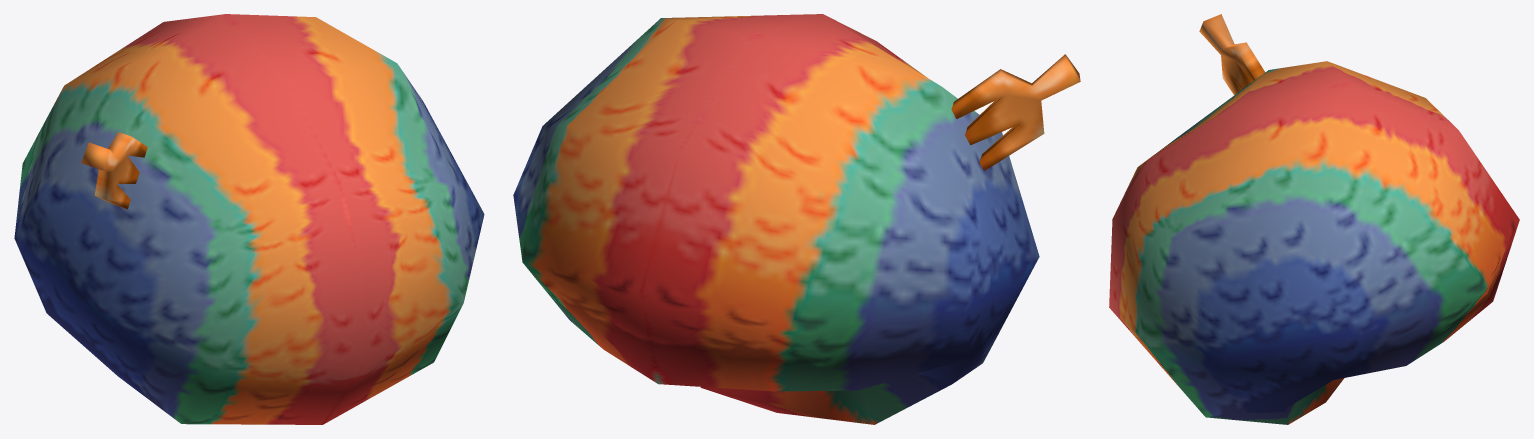
Rendered from sfx_weapon_mura_A0004.glb.
3 views of the same model, side by side, from view 1: azimuth 30°, elevation 25°; view 2: azimuth 150°, elevation 25°; view 3: azimuth 270°, elevation 25° (orthographic). The views are drawn at different scales.
Parts seen in each view (by area): view 1: sfx_weapon_mura_A0004_obj0; view 2: sfx_weapon_mura_A0004_obj0; view 3: sfx_weapon_mura_A0004_obj0.
Part boxes in pixels (x1,y1,x2,y2): sfx_weapon_mura_A0004_obj0: (14,14,484,424); sfx_weapon_mura_A0004_obj0: (513,14,1080,424); sfx_weapon_mura_A0004_obj0: (1109,14,1519,424).
Bounding box in the file's own units: 0.5605 × 0.4616 × 0.5387.
1 material, 1 textured.
